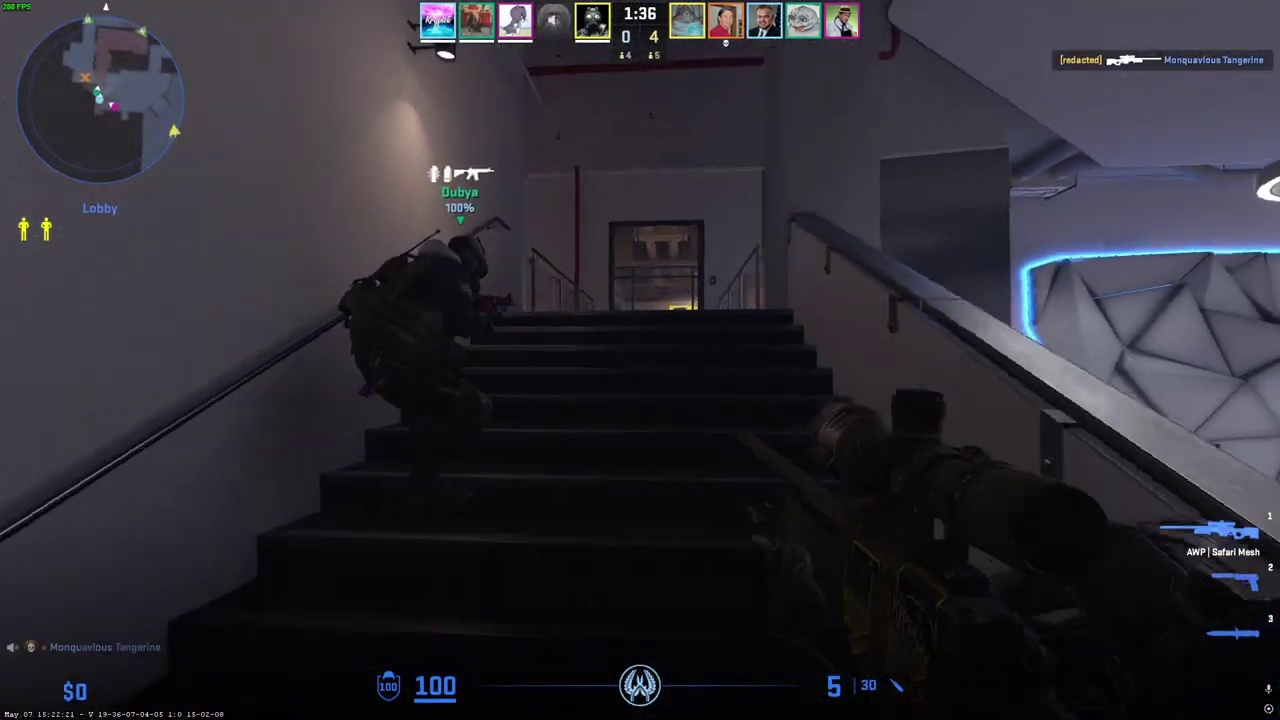CT: (355, 234, 498, 490)
